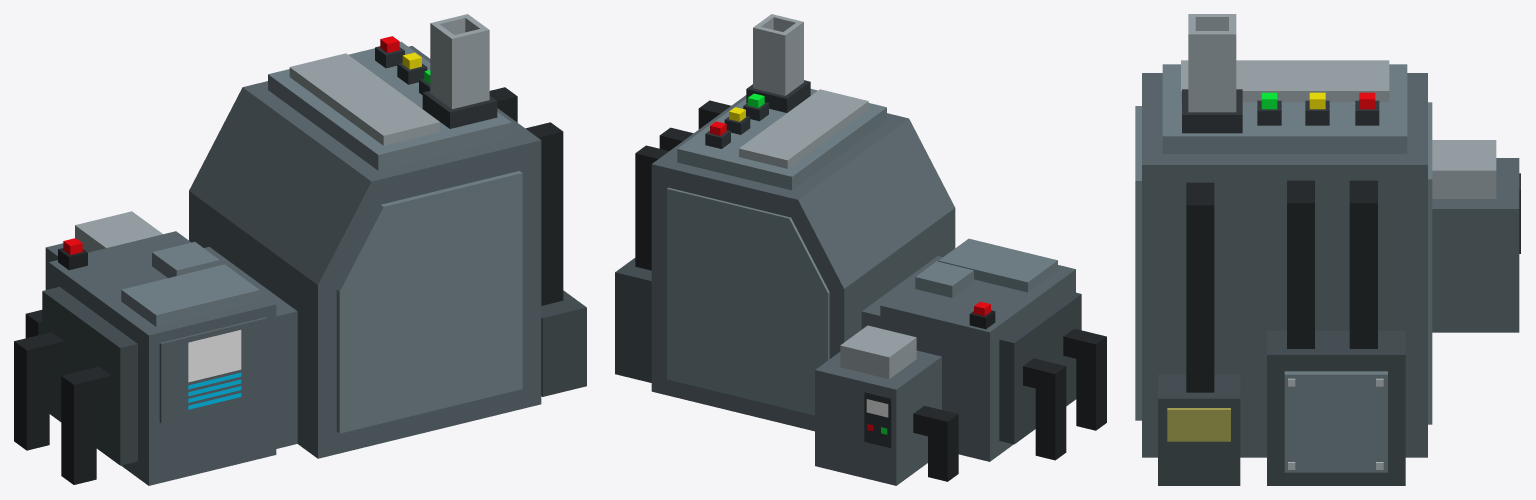
File: Machine 03.FBX
3 renders of one model, left to right at view 1: azimuth 30°, elevation 25°; view 2: azimuth 150°, elevation 25°; view 3: azimuth 270°, elevation 25°, orthographic. The views are drawn at different scales.
Visible parts, largest first — view 1: Machine 03; view 2: Machine 03; view 3: Machine 03.
Boxes of the visible parts, x1,y1,x2,y2 form: Machine 03: (14,14,586,485); Machine 03: (615,14,1106,485); Machine 03: (1135,14,1520,485).
Size of the model in its own units: 619 by 439 by 378.
